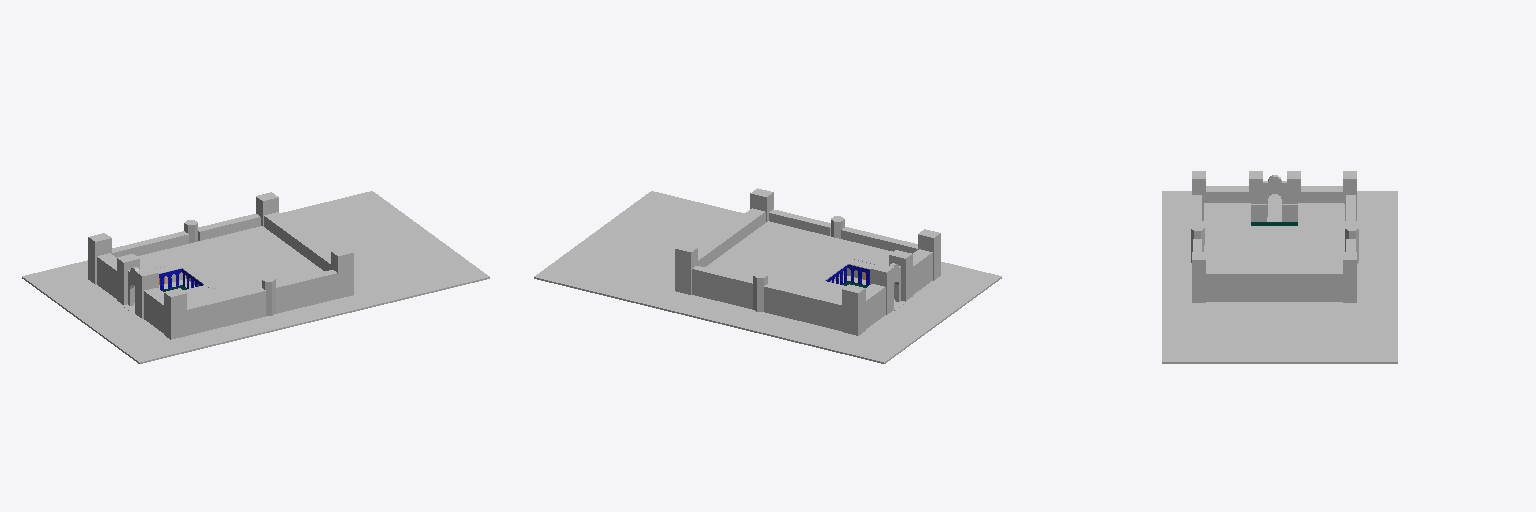
File: ProyectoFinalBoceto2.obj
3 renders of one model, left to right at view 1: azimuth 30°, elevation 25°; view 2: azimuth 150°, elevation 25°; view 3: azimuth 270°, elevation 25°, orthographic.
Parts seen in each view (by area): view 1: Agua_Cubo.056, Techo_Cubo.050, Muralla6_Cubo.048, Muralla5_Cubo.045, Muralla3_Cubo.041, Torre.003_Cubo.039, Muralla7_Cubo.044, Torre.002_Cubo.042, Muralla4_Cubo.046, Muralla1_Cubo.036, Muralla2_Cubo.038, torre1_Cubo.024 (+2 smaller); view 2: Agua_Cubo.056, Techo_Cubo.050, Muralla7_Cubo.044, Muralla4_Cubo.046, Muralla3_Cubo.041, Torre.001_Cubo.026, Muralla6_Cubo.048, Torre.004_Cubo.043, Muralla5_Cubo.045, torre1_Cubo.024, Muralla2_Cubo.038, Muralla1_Cubo.036 (+2 smaller); view 3: Agua_Cubo.056, Techo_Cubo.050, Muralla3_Cubo.041, Muralla2_Cubo.038, Muralla1_Cubo.036, Torre.002_Cubo.042, Torre.004_Cubo.043, ParedExterior4_Cubo.017.
Part boxes in pixels (x1,y1,x2,y2): Agua_Cubo.056: (22,191,489,363); Techo_Cubo.050: (137,226,324,304); Muralla6_Cubo.048: (187,287,265,335); Muralla5_Cubo.045: (276,270,337,313); Muralla3_Cubo.041: (264,212,330,270); Torre.003_Cubo.039: (164,288,186,339); Muralla7_Cubo.044: (112,231,188,257); Torre.002_Cubo.042: (331,247,353,298); Muralla4_Cubo.046: (198,214,260,240); Muralla1_Cubo.036: (97,253,116,298); Muralla2_Cubo.038: (144,288,163,332); torre1_Cubo.024: (135,267,158,318); Agua_Cubo.056: (534,191,1001,363); Techo_Cubo.050: (705,221,892,300); Muralla7_Cubo.044: (764,283,841,330); Muralla4_Cubo.046: (692,266,752,309); Muralla3_Cubo.041: (698,208,765,266); Torre.001_Cubo.026: (842,284,865,335); Muralla6_Cubo.048: (841,227,917,253); Torre.004_Cubo.043: (675,244,697,294); Muralla5_Cubo.045: (769,209,830,235); torre1_Cubo.024: (889,250,912,301); Muralla2_Cubo.038: (913,249,932,294); Muralla1_Cubo.036: (866,284,885,328); Agua_Cubo.056: (1162,191,1397,363); Techo_Cubo.050: (1204,203,1343,266); Muralla3_Cubo.041: (1206,267,1342,301); Muralla2_Cubo.038: (1206,186,1248,202); Muralla1_Cubo.036: (1301,186,1342,202); Torre.002_Cubo.042: (1192,252,1205,302); Torre.004_Cubo.043: (1343,252,1356,302); ParedExterior4_Cubo.017: (1251,204,1344,221).
Bounding box in the file's own units: 430 × 52.4 × 250.